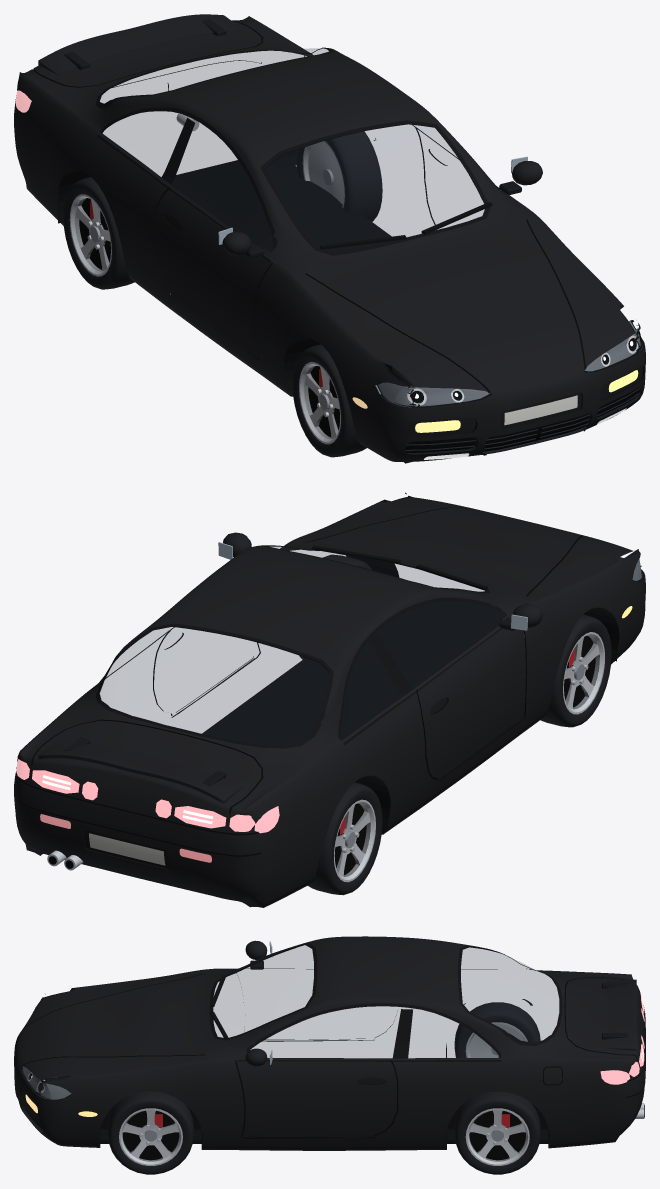
The model's file is car_s14_black.glb.
The picture shows the model from 3 angles, top to bottom: view 1: azimuth 30°, elevation 25°; view 2: azimuth 150°, elevation 25°; view 3: azimuth 270°, elevation 25°; orthographic projection. The views are drawn at different scales.
Parts seen in each view (by area): view 1: body, wheel_fl, wheel_rl, wheel_rr; view 2: body, wheel_rl, wheel_fl; view 3: body, wheel_rr, wheel_fr, wheel_rl.
Part boxes in pixels (x1,y1,x2,y2): body: (14,14,645,463); wheel_fl: (292,344,366,457); wheel_rl: (63,177,134,289); wheel_rr: (296,131,382,221); body: (14,492,645,907); wheel_rl: (307,782,382,895); wheel_fl: (540,614,611,727); body: (14,936,645,1150); wheel_rr: (454,1091,540,1174); wheel_fr: (108,1091,193,1174); wheel_rl: (454,1002,540,1057).
Bounding box in the file's own units: 2 × 1.31 × 4.58.
